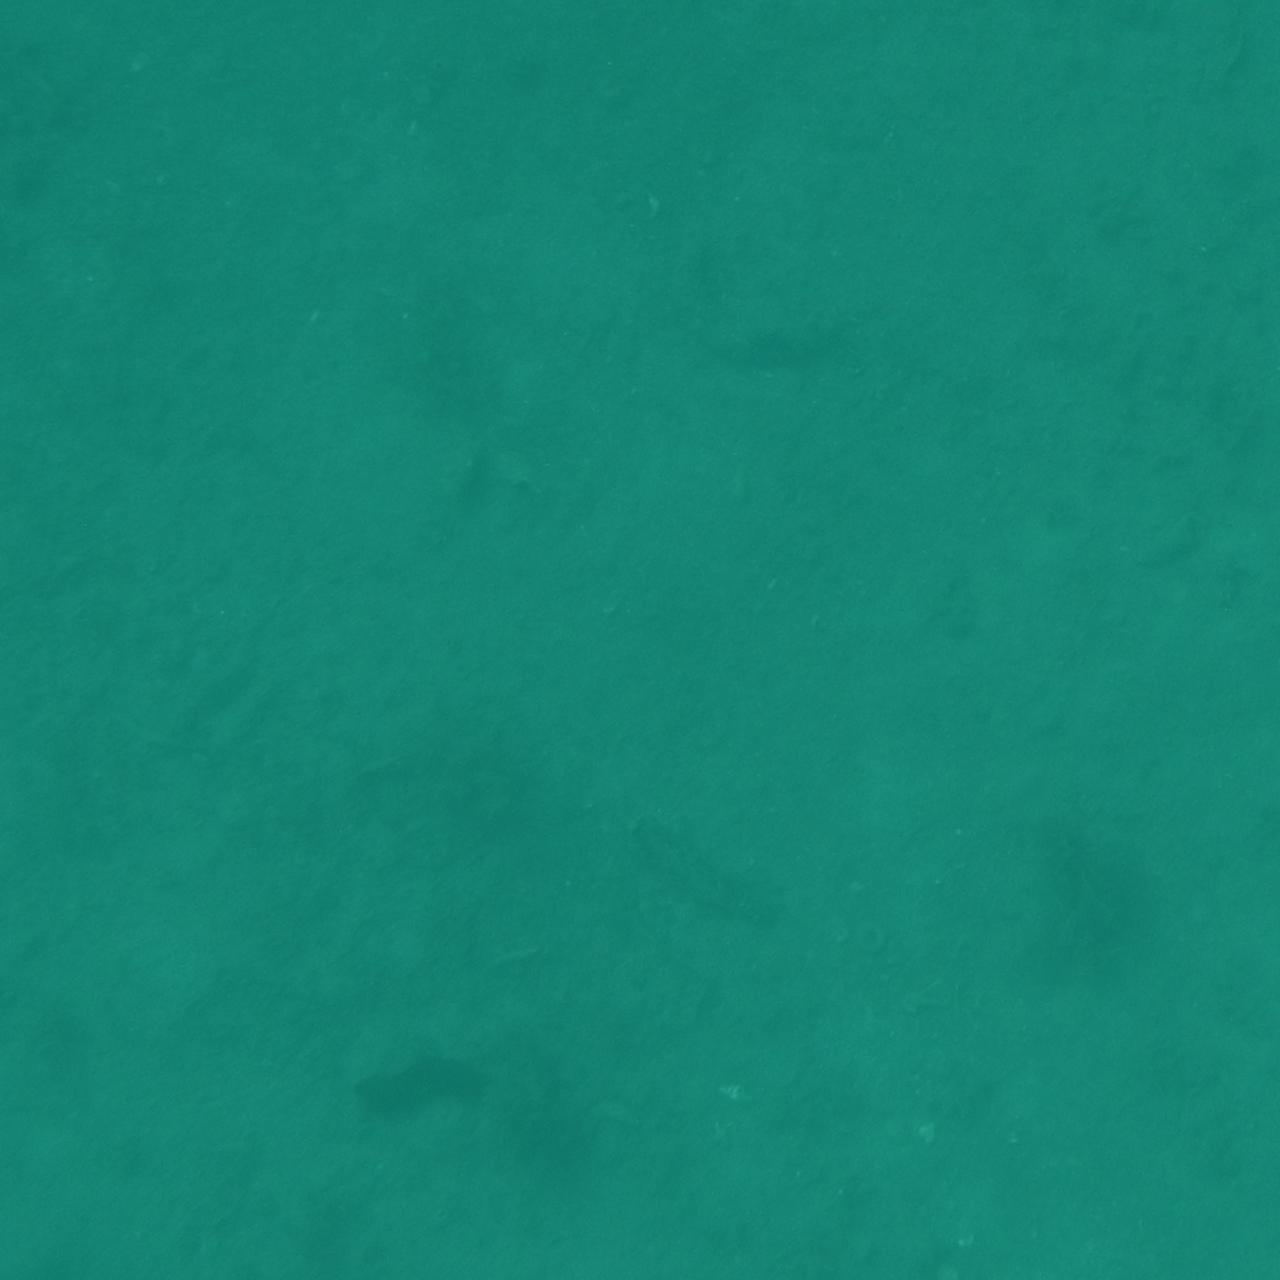Holothuria tubulosa: (621, 796, 815, 962), (343, 1053, 583, 1171), (640, 292, 871, 404), (490, 0, 617, 123), (1177, 18, 1280, 150), (1175, 178, 1280, 304), (0, 1178, 95, 1280), (0, 1159, 70, 1280), (1138, 0, 1280, 47)
